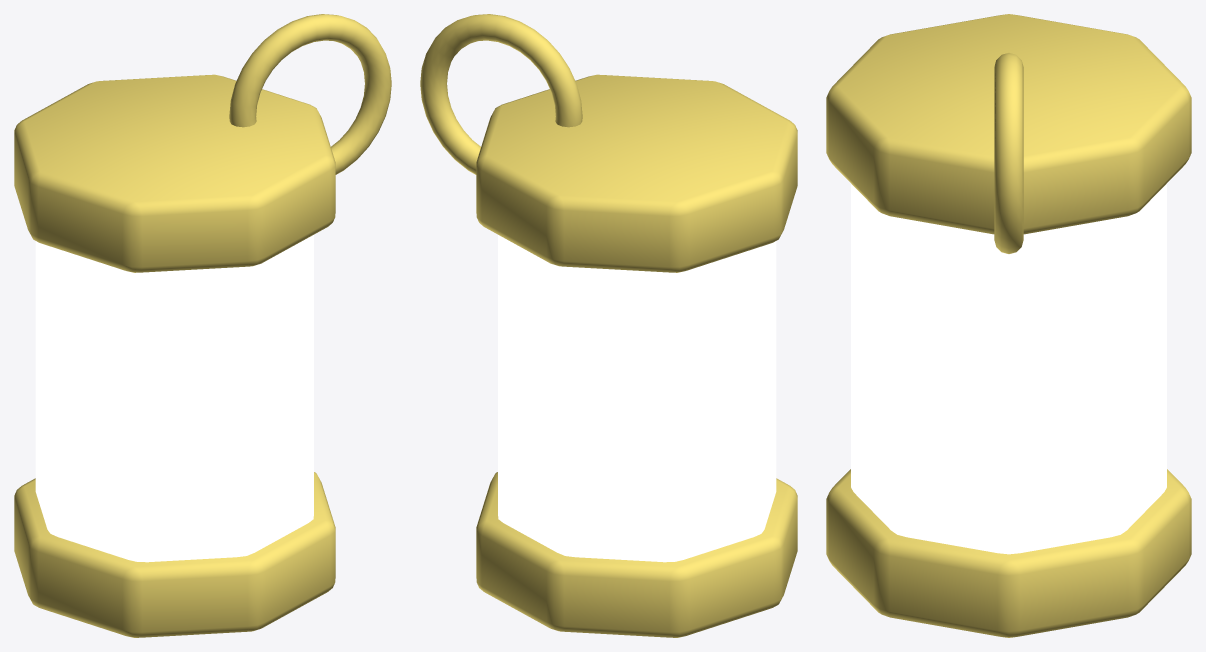
Rendered from bomb_flash.glb.
3 views of the same model, side by side, from view 1: azimuth 30°, elevation 25°; view 2: azimuth 150°, elevation 25°; view 3: azimuth 270°, elevation 25° (orthographic). The views are drawn at different scales.
Parts seen in each view (by area): view 1: body, cap_top, cap_bot, pin_ring; view 2: body, cap_top, cap_bot, pin_ring; view 3: body, cap_top, cap_bot, pin_ring.
Boxes of the visible parts, x1,y1,x2,y2 form: body: (35,235,313,562); cap_top: (14,74,335,272); cap_bot: (14,472,335,637); pin_ring: (229,14,391,174); body: (498,235,776,562); cap_top: (476,74,797,272); cap_bot: (476,472,797,637); pin_ring: (420,14,582,174); body: (851,183,1166,554); cap_top: (826,14,1191,234); cap_bot: (826,469,1191,637); pin_ring: (994,53,1023,253).
Bounding box in the file's own units: 0.3704 × 0.517 × 0.2968.
